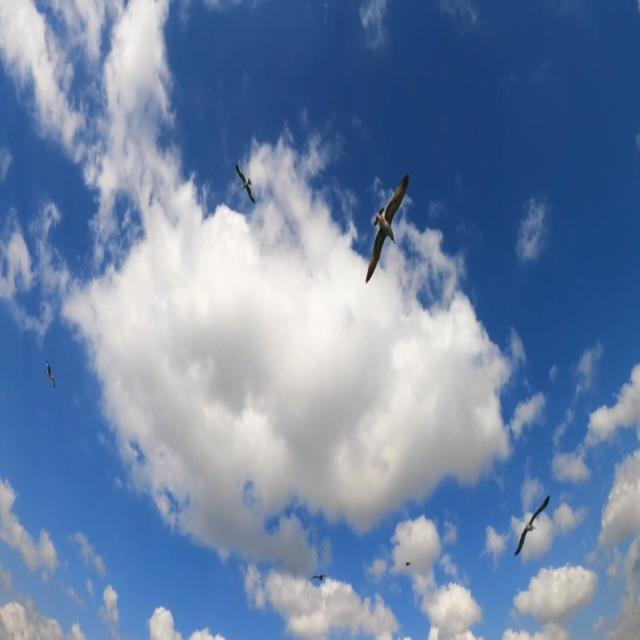bird: (355, 162, 412, 292), (498, 488, 564, 566), (219, 151, 269, 216), (42, 348, 66, 406), (310, 553, 337, 593), (398, 544, 414, 589)
